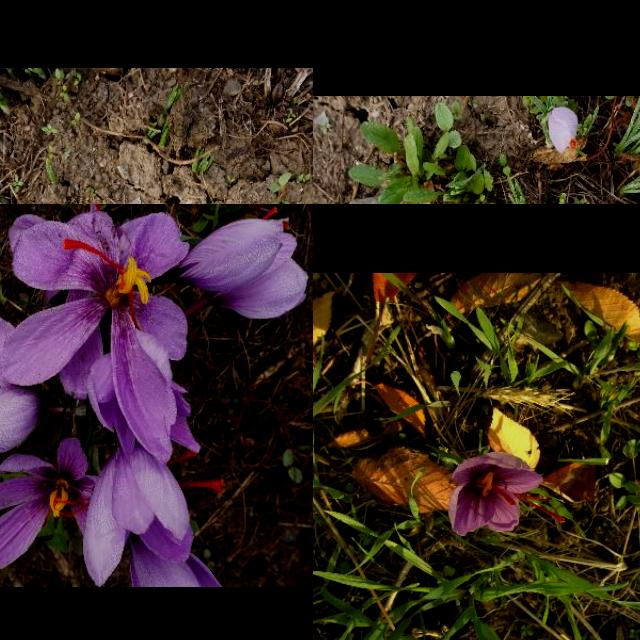flower: (0, 212, 190, 463), (83, 438, 225, 588), (0, 438, 98, 571), (166, 207, 298, 295), (449, 454, 565, 536), (0, 375, 47, 453), (550, 106, 578, 154)
overlap: (0, 204, 308, 587)
